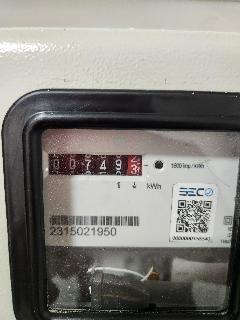1: (53, 159, 59, 169), (70, 159, 76, 169)
4: (132, 165, 137, 174)
5: (101, 160, 106, 170)
8: (85, 160, 91, 170)
:: (117, 160, 122, 170)
